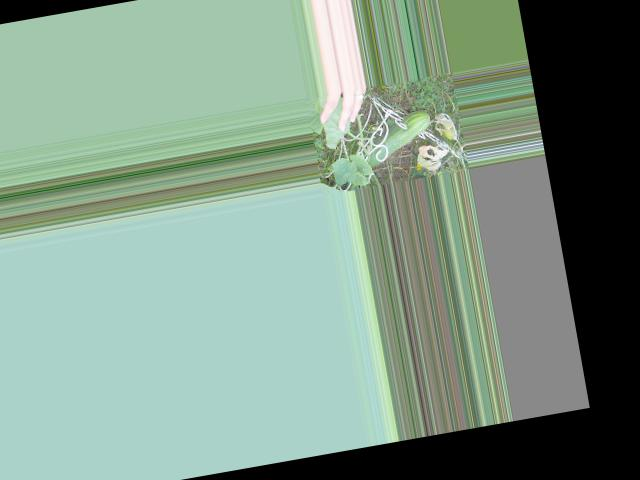cucumber: (359, 108, 436, 167)
